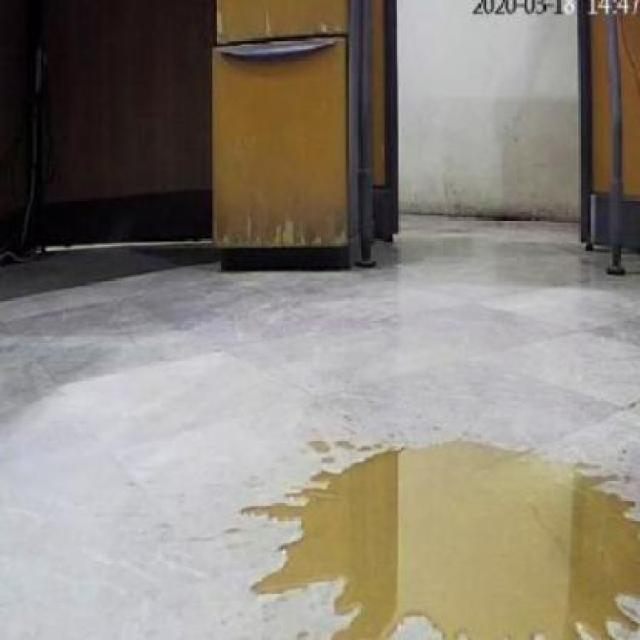spillage: (252, 442, 640, 640)
